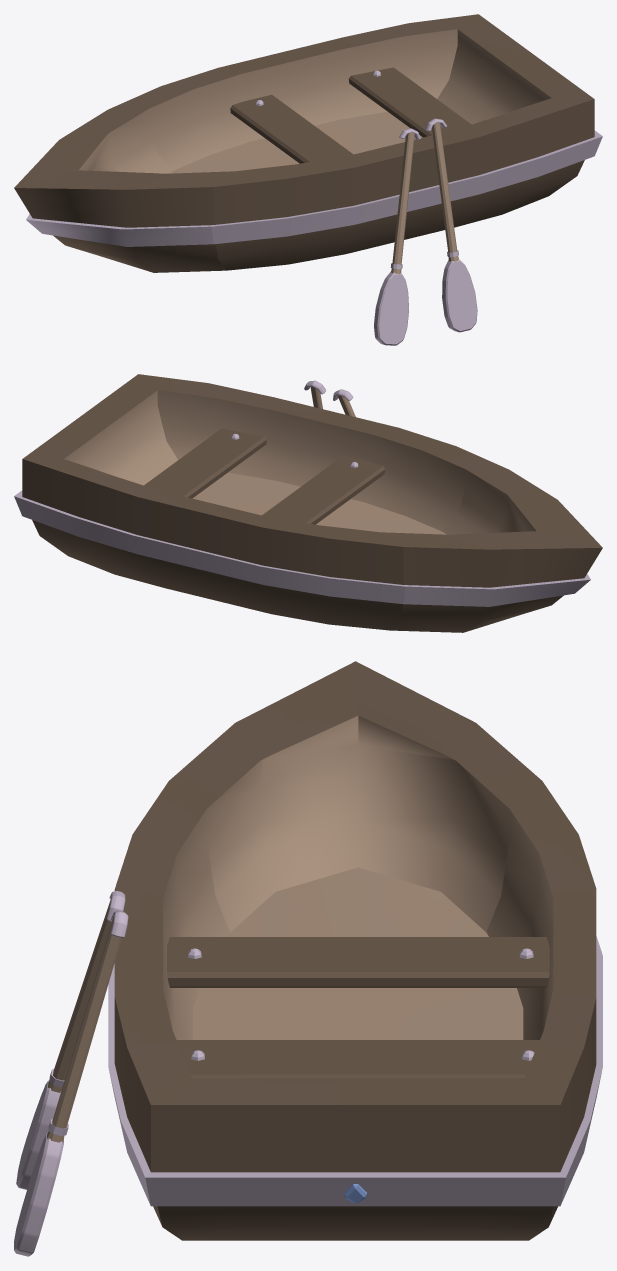
Rendered from boot roze.fbx.
3 renders of one model, top to bottom at view 1: azimuth 30°, elevation 25°; view 2: azimuth 150°, elevation 25°; view 3: azimuth 270°, elevation 25°, orthographic. The views are drawn at different scales.
Visible parts, largest first — view 1: pasted__polySurface45; view 2: pasted__polySurface45; view 3: pasted__polySurface45.
Part boxes in pixels (box(x1,y1,x2,y2)): pasted__polySurface45: box(14, 14, 602, 345); pasted__polySurface45: box(14, 374, 602, 632); pasted__polySurface45: box(14, 661, 602, 1256).
Size of the model in its own units: 11.33 by 3.93 by 6.18.
